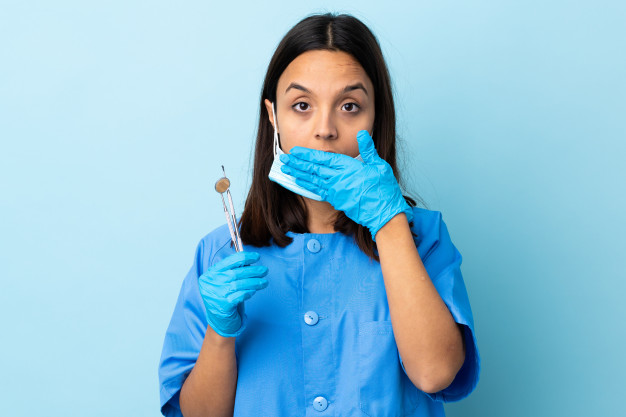mask_weared_incorrect: (263, 60, 380, 195)
